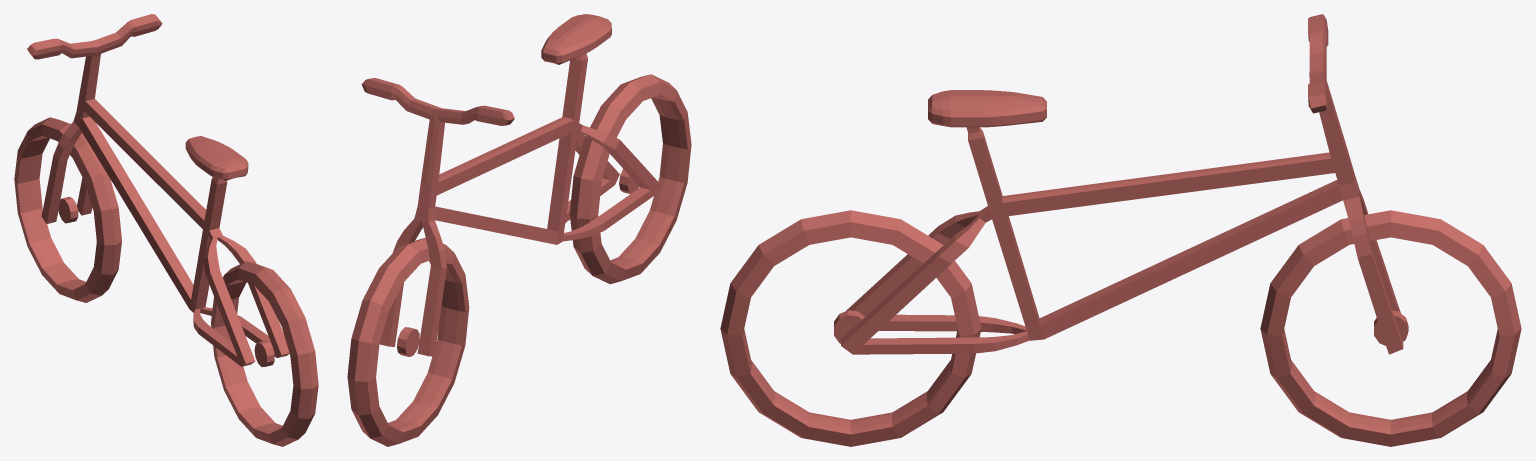
The model's file is SquareFrameBicycle.glb.
The picture shows the model from 3 angles, left to right: view 1: azimuth 30°, elevation 25°; view 2: azimuth 150°, elevation 25°; view 3: azimuth 270°, elevation 25°; orthographic projection. The views are drawn at different scales.
Visible parts, largest first — view 1: SquareFrameBicycle.obj; view 2: SquareFrameBicycle.obj; view 3: SquareFrameBicycle.obj.
Boxes of the visible parts, box(x1,y1,x2,y2) form: SquareFrameBicycle.obj: box(14, 14, 318, 446); SquareFrameBicycle.obj: box(347, 14, 691, 446); SquareFrameBicycle.obj: box(720, 14, 1521, 446).
Bounding box in the file's own units: 1.5 × 3.15 × 5.83.
